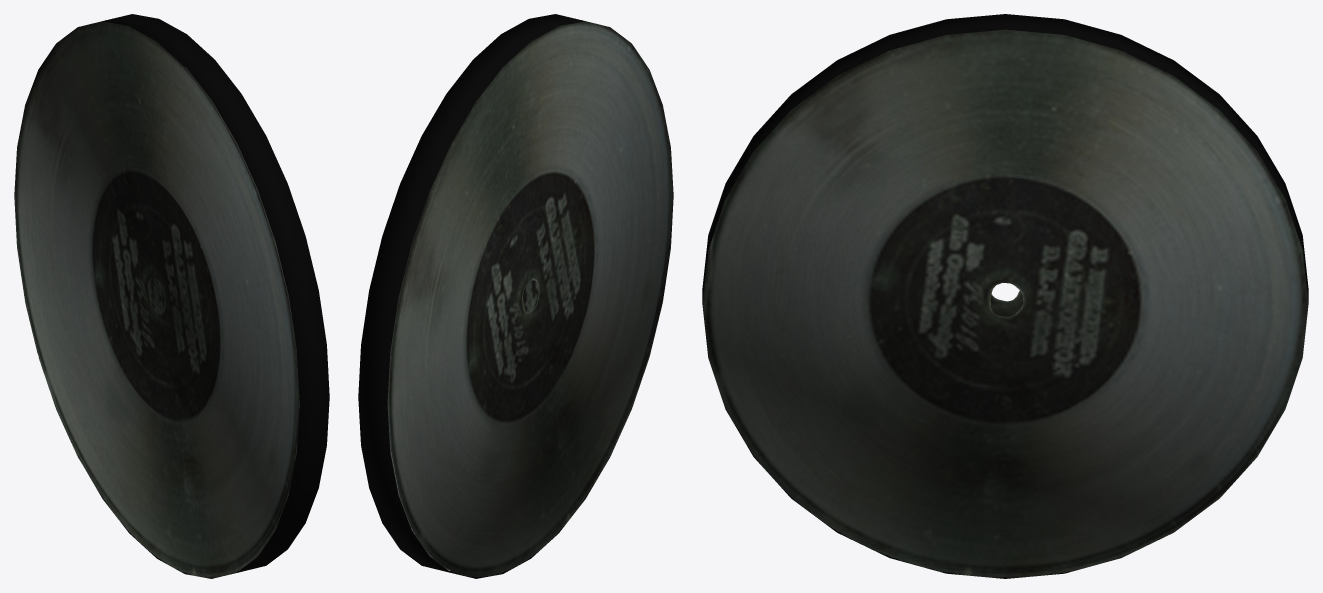
Rendered from record.fbx.
3 renders of one model, left to right at view 1: azimuth 30°, elevation 25°; view 2: azimuth 150°, elevation 25°; view 3: azimuth 270°, elevation 25°, orthographic. The views are drawn at different scales.
Parts seen in each view (by area): view 1: Cylinder; view 2: Cylinder; view 3: Cylinder.
Boxes of the visible parts, left/top/right/bottom form: Cylinder: left=14, top=14, right=329, bottom=578; Cylinder: left=358, top=14, right=673, bottom=578; Cylinder: left=702, top=14, right=1308, bottom=578.
Bounding box in the file's own units: 0.122 × 2 × 2.
Materials: 1 (1 with a texture image).
